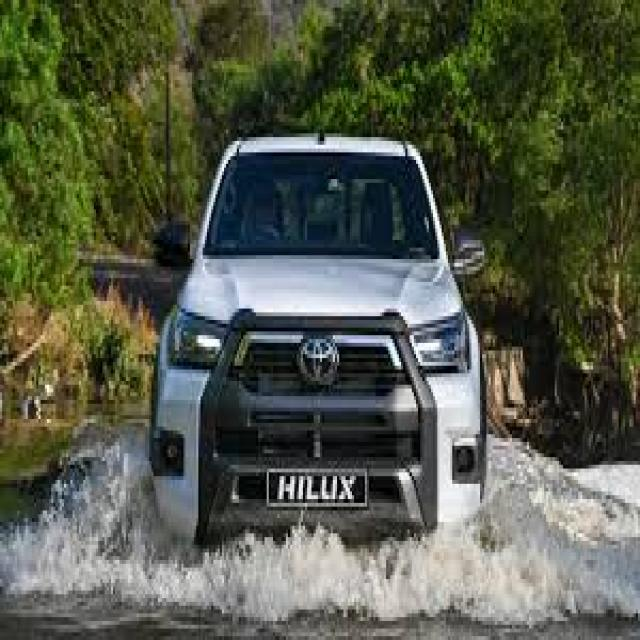Pickup Trucks: (147, 133, 493, 560)
